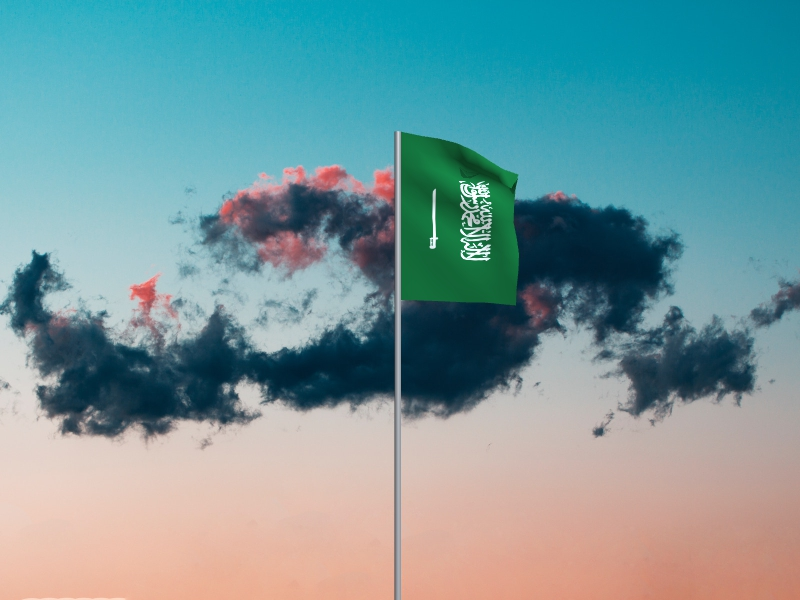sa: (401, 133, 520, 307)
